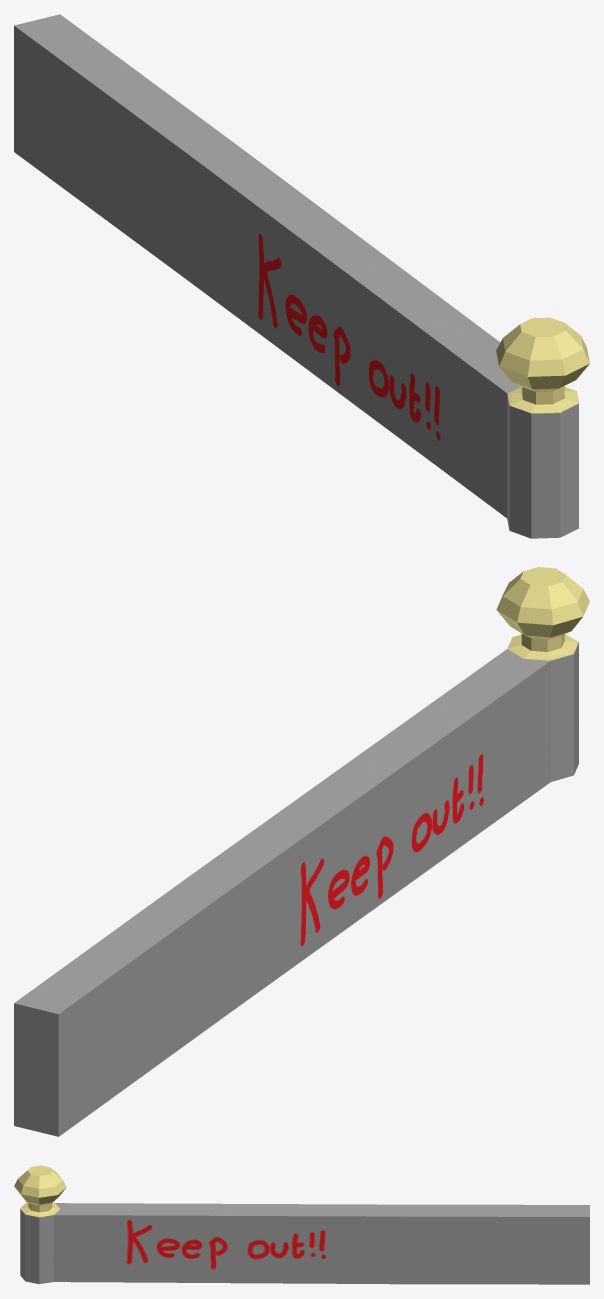
File: Gate.fbx
The picture shows the model from 3 angles, top to bottom: view 1: azimuth 30°, elevation 25°; view 2: azimuth 150°, elevation 25°; view 3: azimuth 270°, elevation 25°; orthographic projection. The views are drawn at different scales.
Visible parts, largest first — view 1: Gate; view 2: Gate; view 3: Gate.
Boxes of the visible parts, x1,y1,x2,y2 form: Gate: (14, 14, 589, 538); Gate: (14, 567, 589, 1136); Gate: (14, 1165, 589, 1284).
Bounding box in the file's own units: 132 × 293 × 1447.
